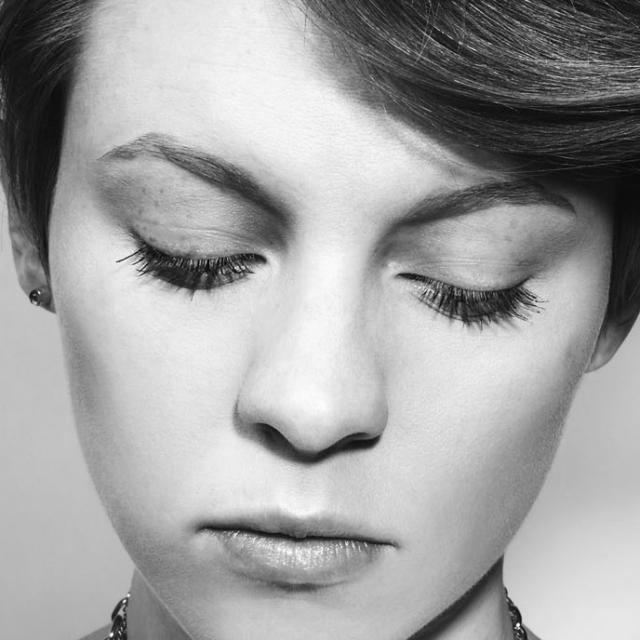real: (52, 0, 608, 640), (98, 177, 546, 345)
